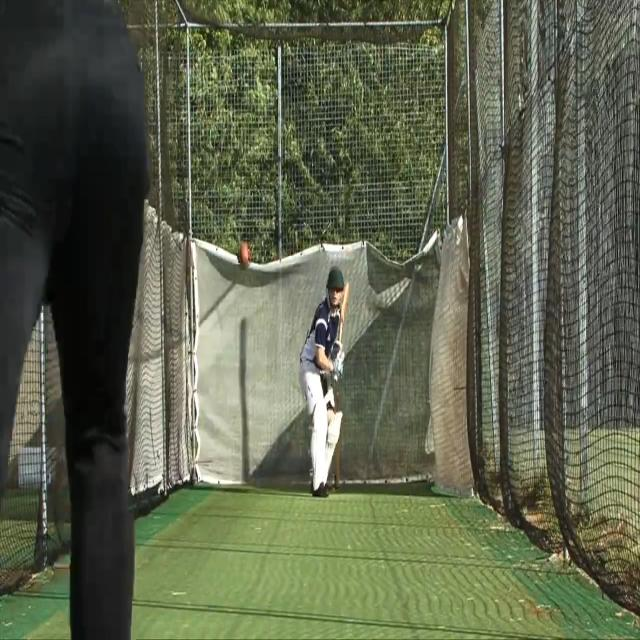batsman: (298, 264, 350, 502)
